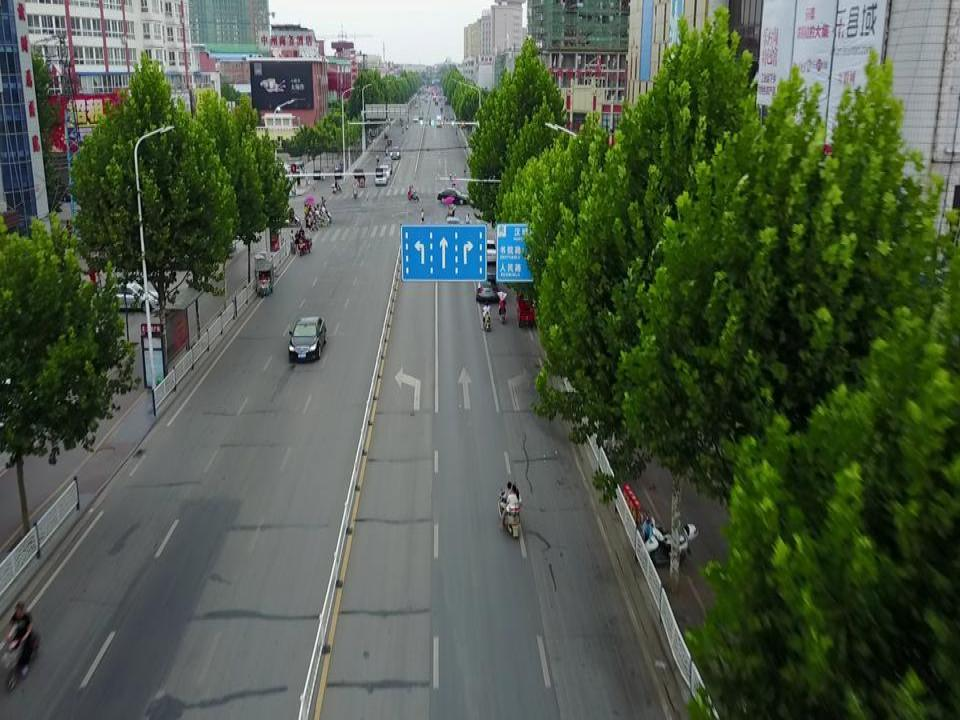bus: (436, 115, 442, 128)
car: (288, 316, 327, 363), (100, 283, 160, 313), (476, 272, 500, 303), (437, 188, 470, 205), (49, 184, 76, 201), (480, 240, 498, 265), (267, 160, 291, 175), (377, 164, 390, 180), (382, 156, 392, 175), (374, 171, 387, 185), (390, 146, 401, 158), (413, 116, 419, 123)
truck: (418, 108, 424, 120)
van: (293, 161, 305, 179), (334, 162, 343, 178)
